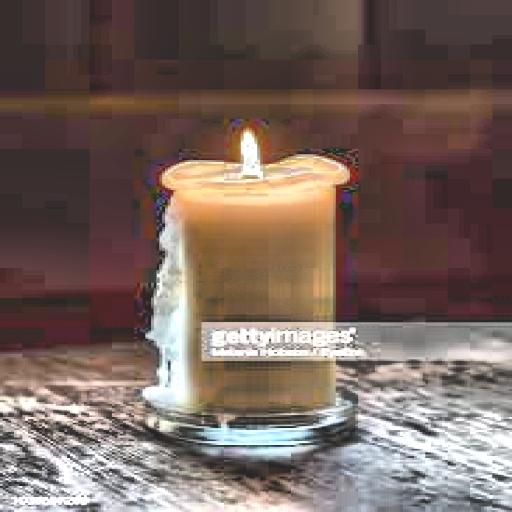fire: (232, 124, 269, 180)
